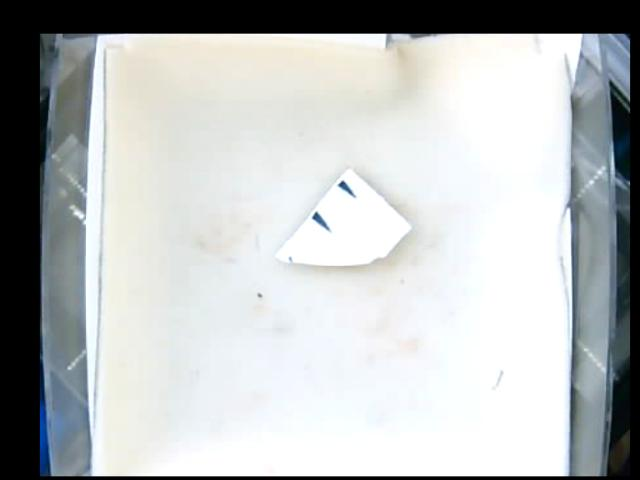China: (280, 167, 412, 266)
